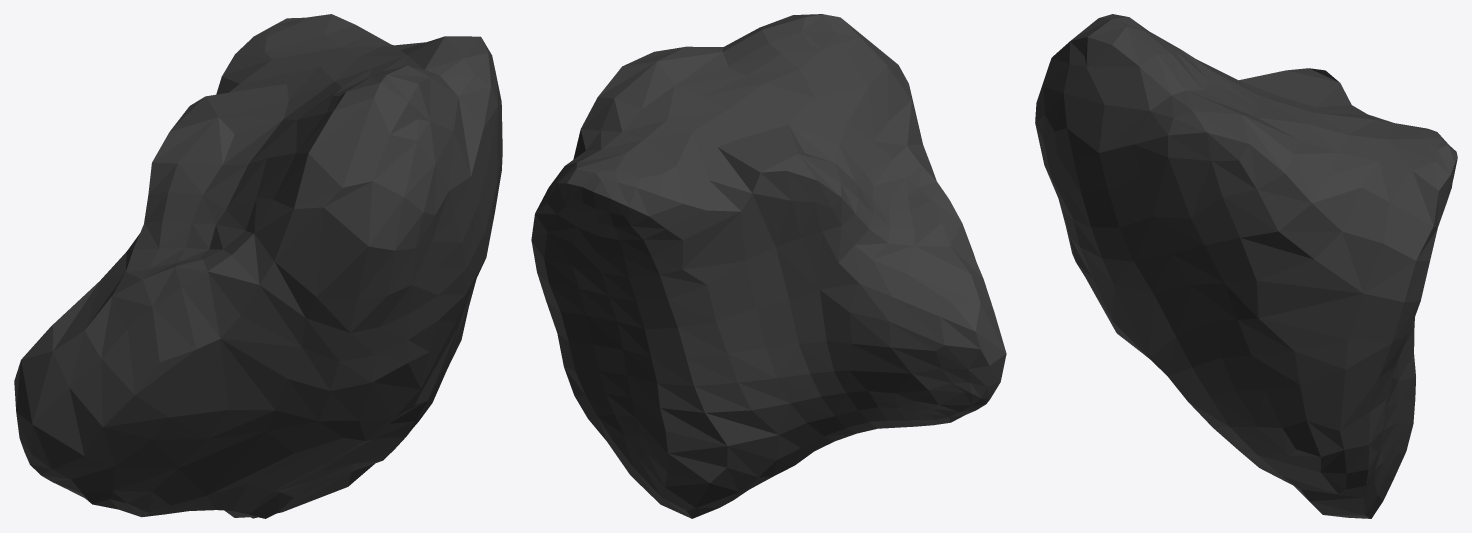
File: Patella_L.glb
3 views of the same model, side by side, from view 1: azimuth 30°, elevation 25°; view 2: azimuth 150°, elevation 25°; view 3: azimuth 270°, elevation 25° (orthographic). The views are drawn at different scales.
Visible parts, largest first — view 1: Patella_L; view 2: Patella_L; view 3: Patella_L.
Part boxes in pixels (x1=…): Patella_L: x1=14, y1=14, x2=502, y2=518; Patella_L: x1=531, y1=14, x2=1006, y2=518; Patella_L: x1=1035, y1=14, x2=1457, y2=518.
Bounding box in the file's own units: 0.0843 × 0.0874 × 0.0694.
Materials: 1 (1 with a texture image).
